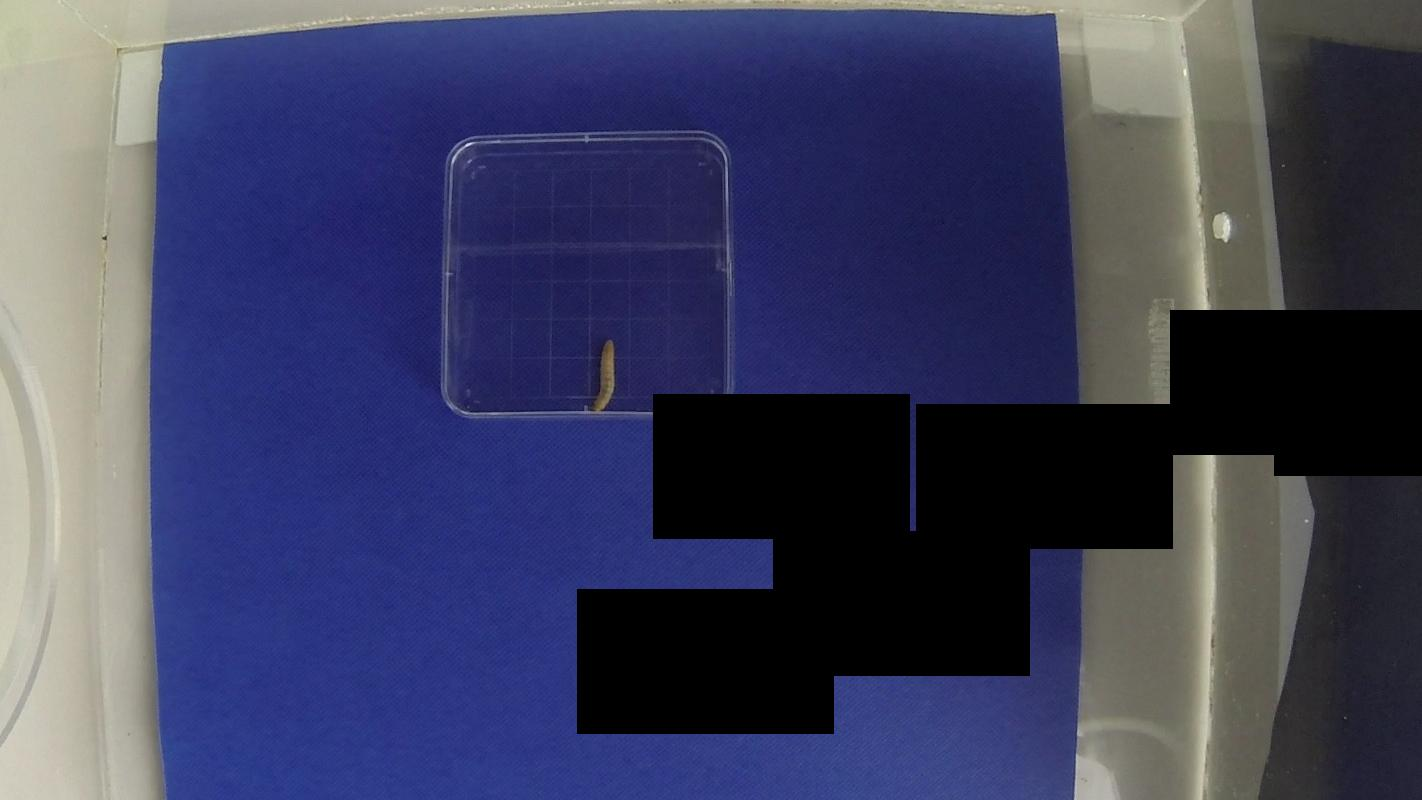larva: (590, 341, 618, 409)
